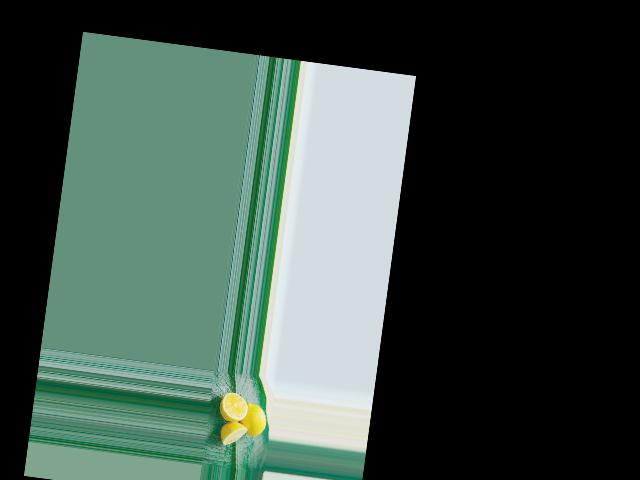lemon: (237, 396, 268, 437)
